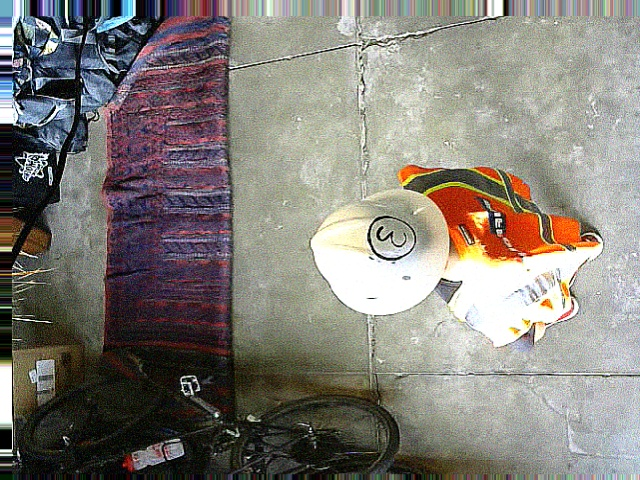three: (366, 214, 415, 259)
